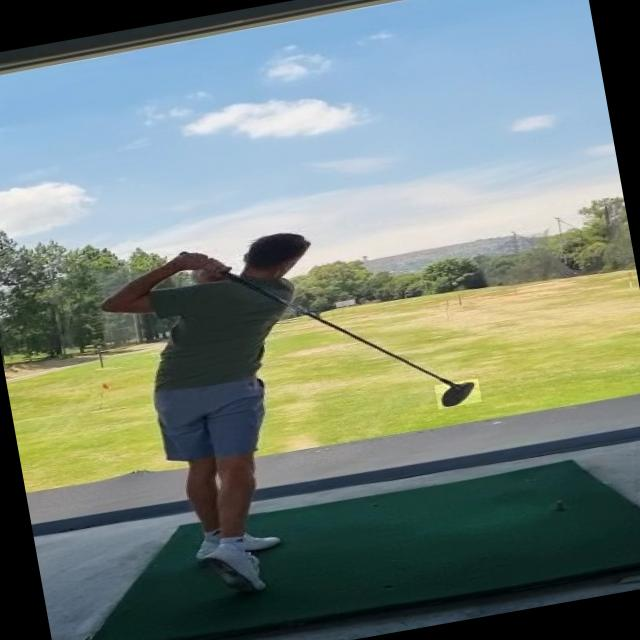club head: (434, 378, 482, 409)
